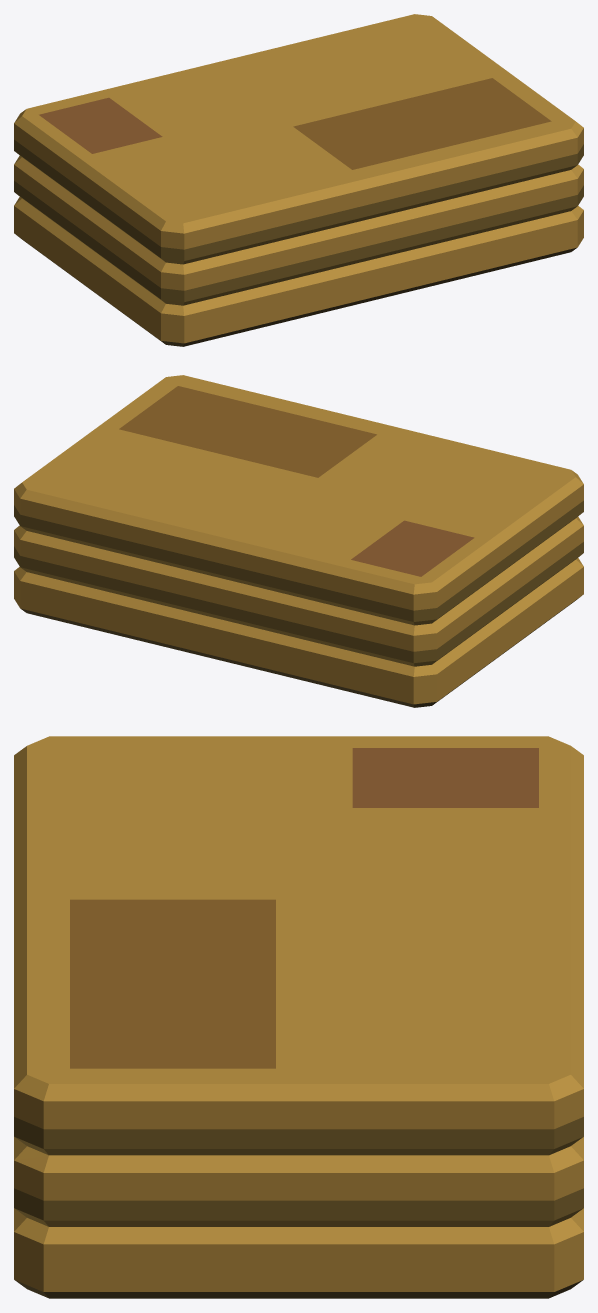
File: item_mealsurvival_c.obj
3 renders of one model, top to bottom at view 1: azimuth 30°, elevation 25°; view 2: azimuth 150°, elevation 25°; view 3: azimuth 270°, elevation 25°, orthographic. The views are drawn at different scales.
Size of the model in its own units: 0.8668 by 0.2419 by 0.5824.
